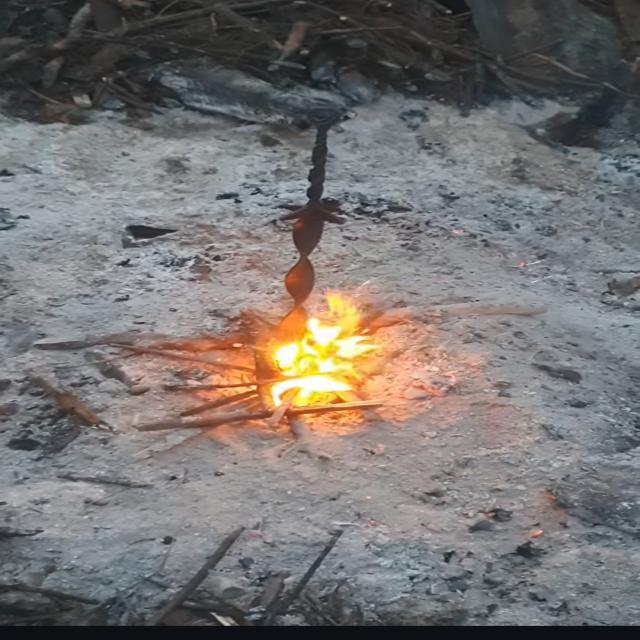fire: (270, 292, 381, 407)
